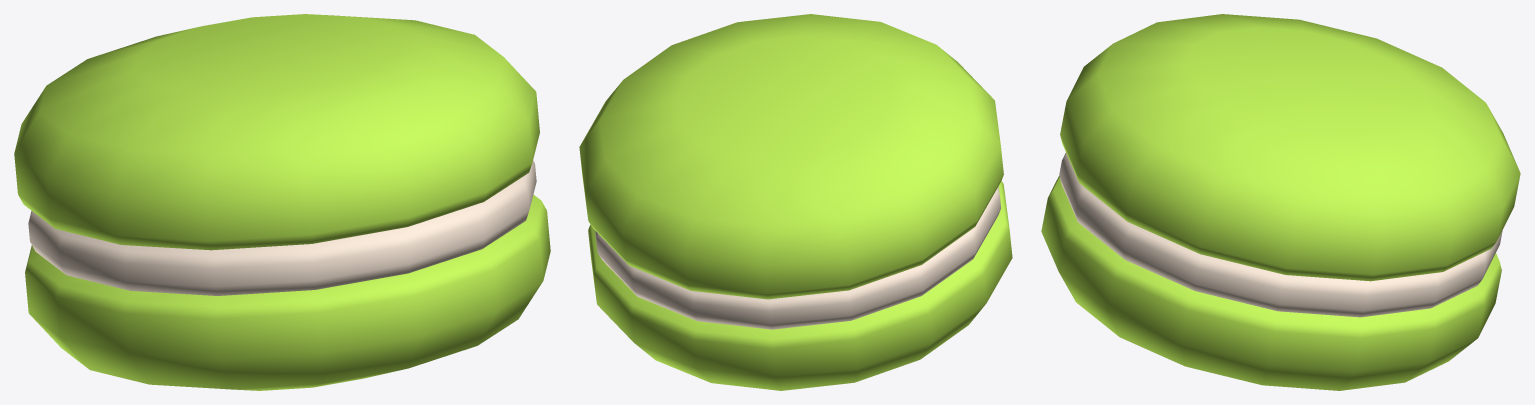
File: SM_macaron_10.glb
3 renders of one model, left to right at view 1: azimuth 30°, elevation 25°; view 2: azimuth 150°, elevation 25°; view 3: azimuth 270°, elevation 25°, orthographic. The views are drawn at different scales.
Visible parts, largest first — view 1: SM_macaron_10; view 2: SM_macaron_10; view 3: SM_macaron_10.
Part boxes in pixels (x1,y1,x2,y2): SM_macaron_10: (14,14,550,390); SM_macaron_10: (579,14,1012,390); SM_macaron_10: (1041,14,1520,390).
Size of the model in its own units: 0.0906 by 0.0605 by 0.0942.
Materials: 1 (1 with a texture image).
